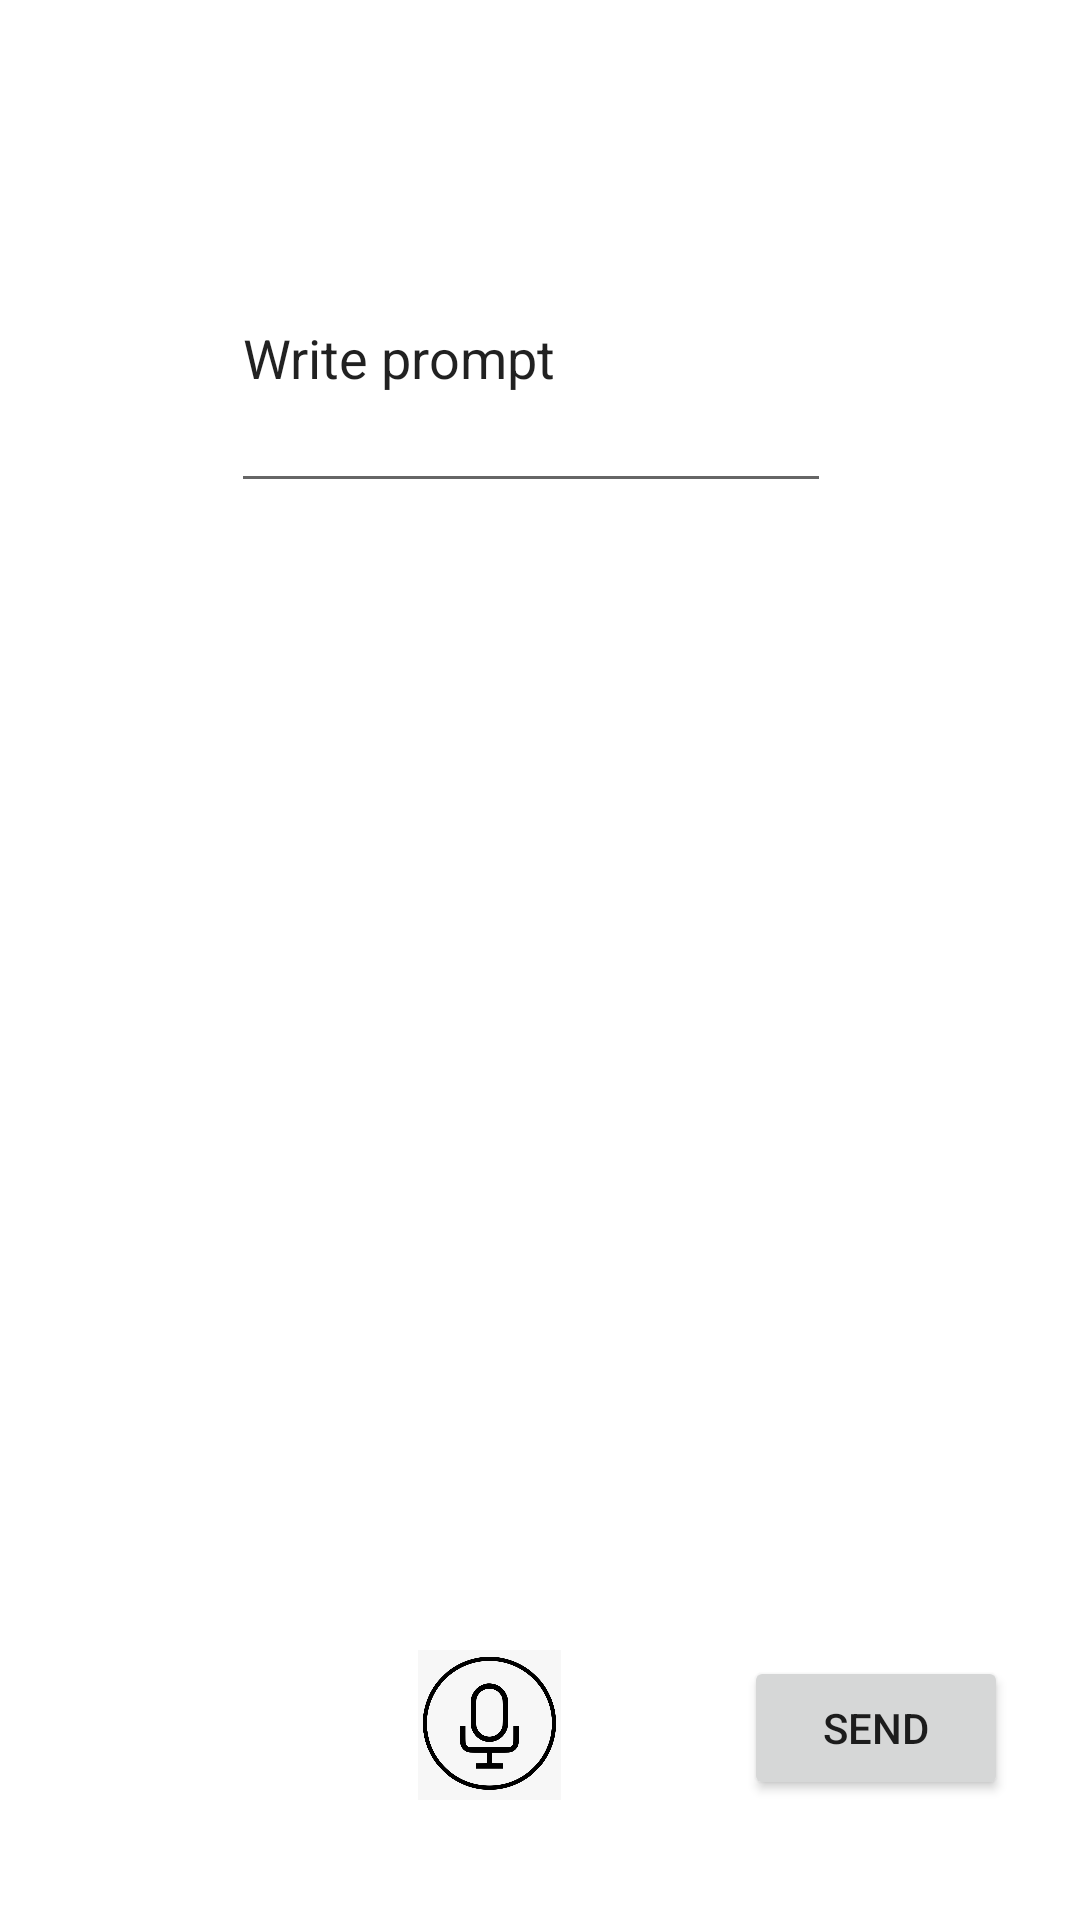

Icon bounding boxes for this 1080px×1920px phone screenshot, format rect(x1, y1, x2, y2):
record states: rect(423, 1657, 556, 1790)
